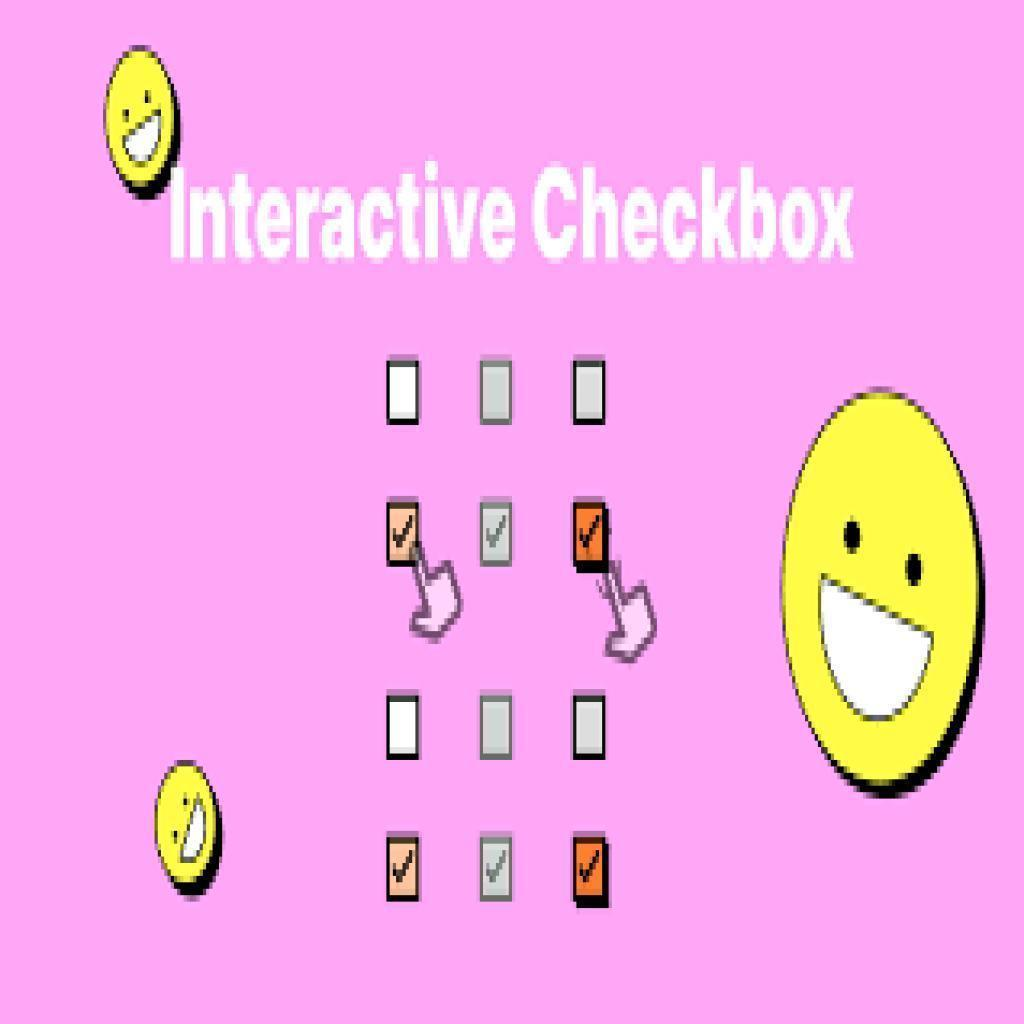checkbox: (574, 836, 608, 909), (479, 838, 514, 902), (571, 503, 606, 566), (387, 836, 419, 901), (387, 364, 421, 424), (386, 503, 419, 564), (479, 500, 511, 562), (573, 696, 605, 758), (571, 362, 602, 423), (482, 699, 512, 761), (575, 695, 604, 757), (389, 699, 420, 755), (482, 363, 510, 422)
